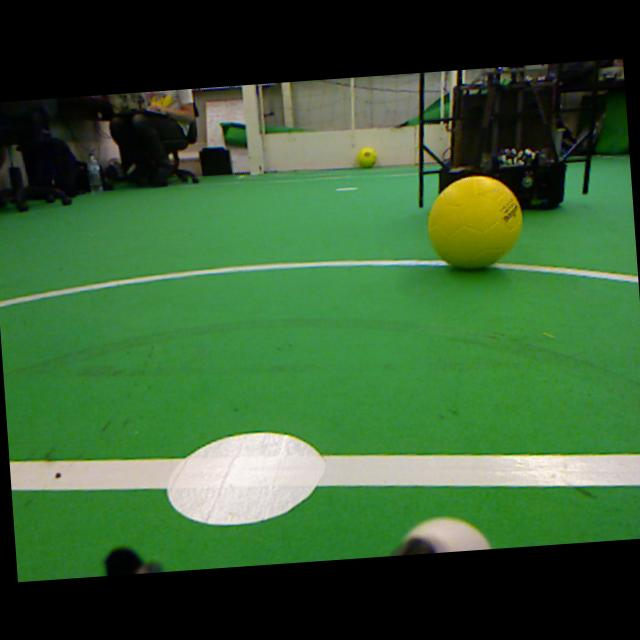ball: (427, 176, 521, 269), (356, 146, 376, 167)
goal: (242, 84, 262, 175)
robot: (438, 65, 565, 209)
